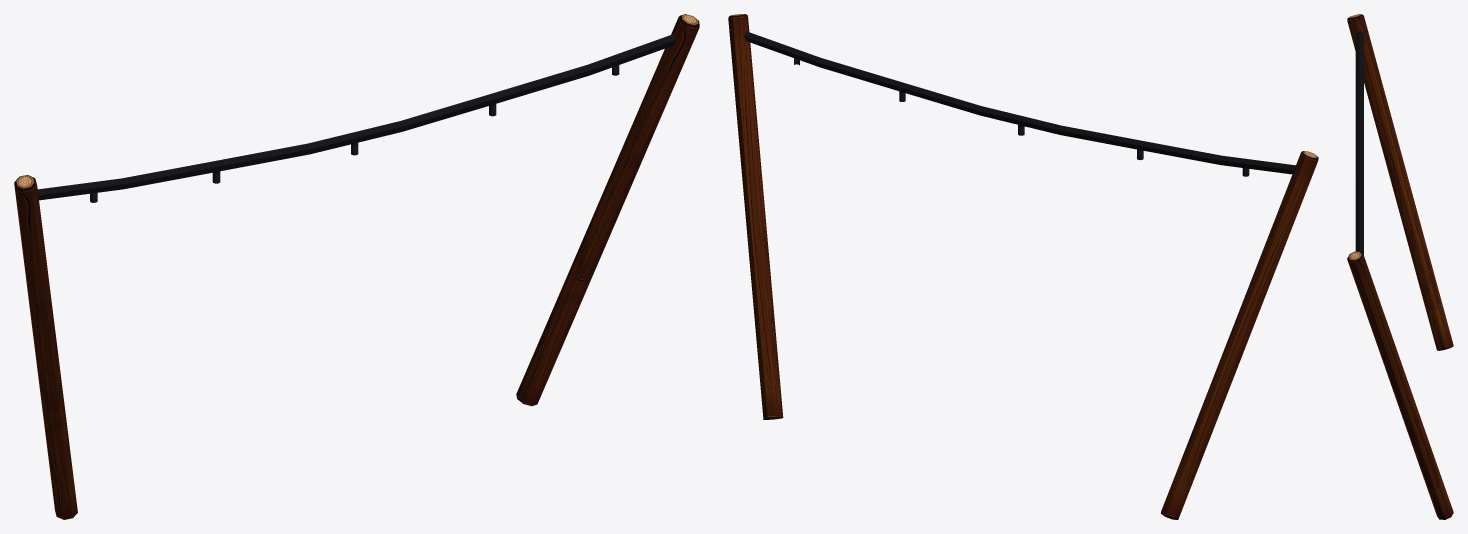
Rendered from tiang_lampion.obj.
3 views of the same model, side by side, from view 1: azimuth 30°, elevation 25°; view 2: azimuth 150°, elevation 25°; view 3: azimuth 270°, elevation 25° (orthographic). The views are drawn at different scales.
Parts seen in each view (by area): view 1: StallMesh; view 2: StallMesh; view 3: StallMesh.
Boxes of the visible parts, <box> form: StallMesh: <box>14,14,699,519</box>; StallMesh: <box>728,14,1318,519</box>; StallMesh: <box>1347,14,1453,519</box>.
Size of the model in its own units: 0.334 by 0.1897 by 0.0611.
